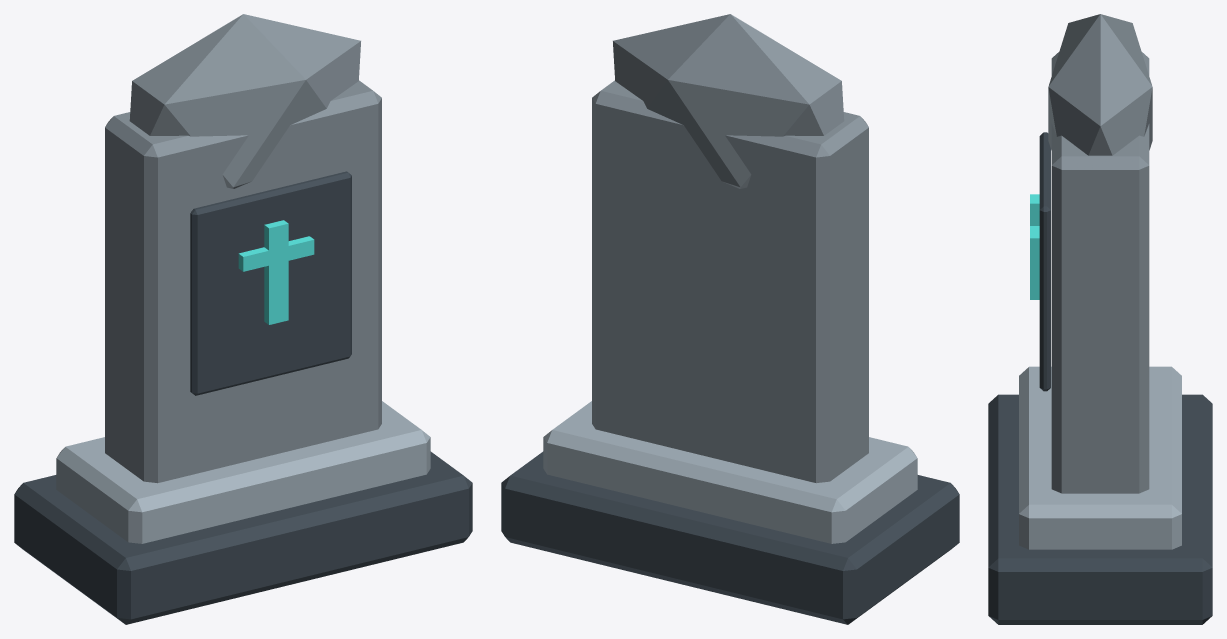
Rendered from SH10_L01_Gravestone.fbx.
3 views of the same model, side by side, from view 1: azimuth 30°, elevation 25°; view 2: azimuth 150°, elevation 25°; view 3: azimuth 270°, elevation 25° (orthographic).
Visible parts, largest first — view 1: SH10_L01_Gravestone; view 2: SH10_L01_Gravestone; view 3: SH10_L01_Gravestone.
Boxes of the visible parts, x1,y1,x2,y2 form: SH10_L01_Gravestone: (14,14,472,624); SH10_L01_Gravestone: (501,14,959,624); SH10_L01_Gravestone: (988,14,1212,624).
Bounding box in the file's own units: 100 × 143 × 55.
